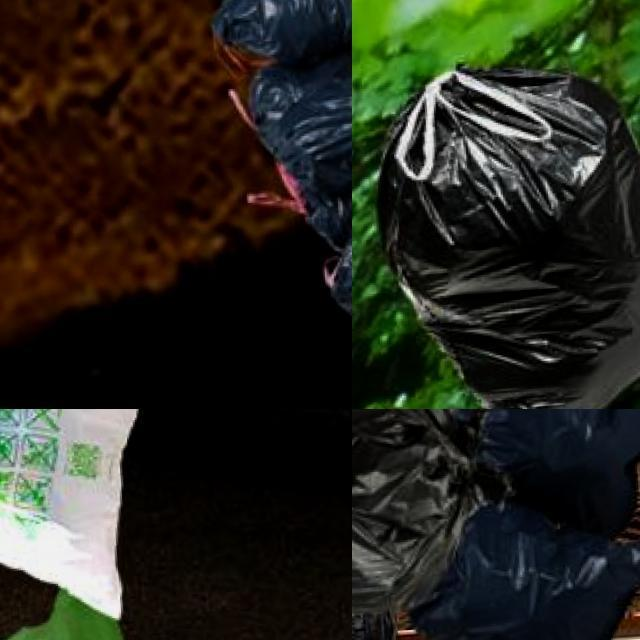waste: (370, 48, 640, 409), (0, 409, 174, 630), (426, 479, 640, 640), (352, 409, 464, 631), (468, 409, 640, 530), (237, 38, 352, 185), (208, 0, 352, 66)
